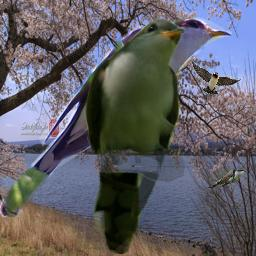Cuckoo: (0, 17, 232, 217), (84, 18, 186, 254), (207, 168, 246, 188)
Swallow: (191, 60, 241, 94)
